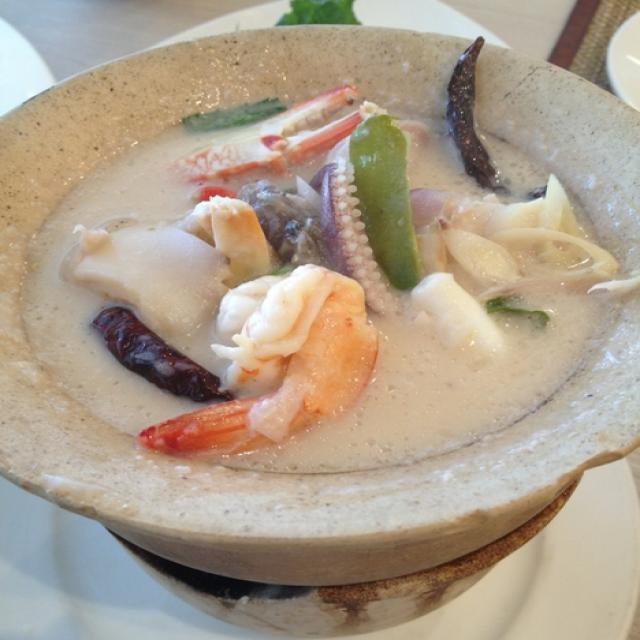汤锅炖物: (41, 34, 624, 533)
